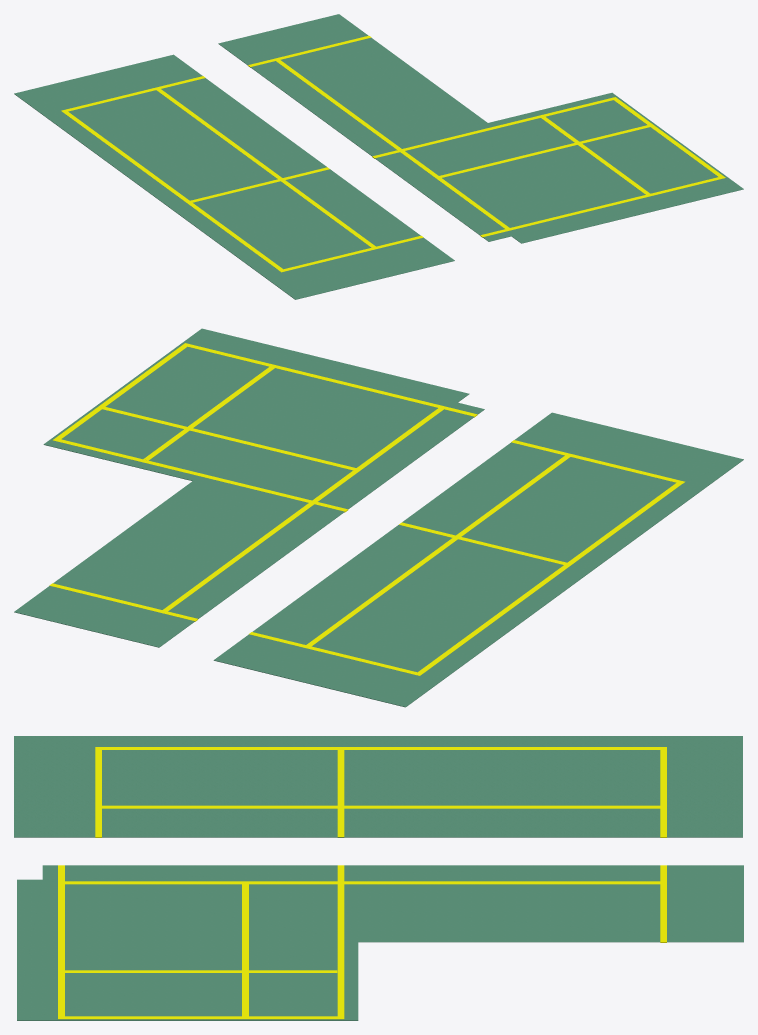
The picture shows the model from 3 angles, top to bottom: view 1: azimuth 30°, elevation 25°; view 2: azimuth 150°, elevation 25°; view 3: azimuth 270°, elevation 25°; orthographic projection. The views are drawn at different scales.
Visible parts, largest first — view 1: Line439, 对象065, Line1547, Line1548; view 2: Line439, 对象065, Line1547, Line1548; view 3: Line439, 对象065, Line1547, Line1548.
Part boxes in pixels (x1=…): Line439: x1=218, y1=14, x2=743, y2=243; 对象065: x1=14, y1=54, x2=454, y2=299; Line1547: x1=248, y1=35, x2=725, y2=237; Line1548: x1=61, y1=76, x2=423, y2=272; Line439: x1=14, y1=328, x2=484, y2=647; 对象065: x1=213, y1=412, x2=743, y2=707; Line1547: x1=49, y1=343, x2=477, y2=621; Line1548: x1=249, y1=440, x2=685, y2=675; Line439: x1=17, y1=865, x2=743, y2=1020; 对象065: x1=14, y1=736, x2=742, y2=837; Line1547: x1=58, y1=865, x2=666, y2=1019; Line1548: x1=95, y1=747, x2=666, y2=837.
Bounding box in the file's own units: 126 × 0.215 × 137.
2 materials, 1 textured.
